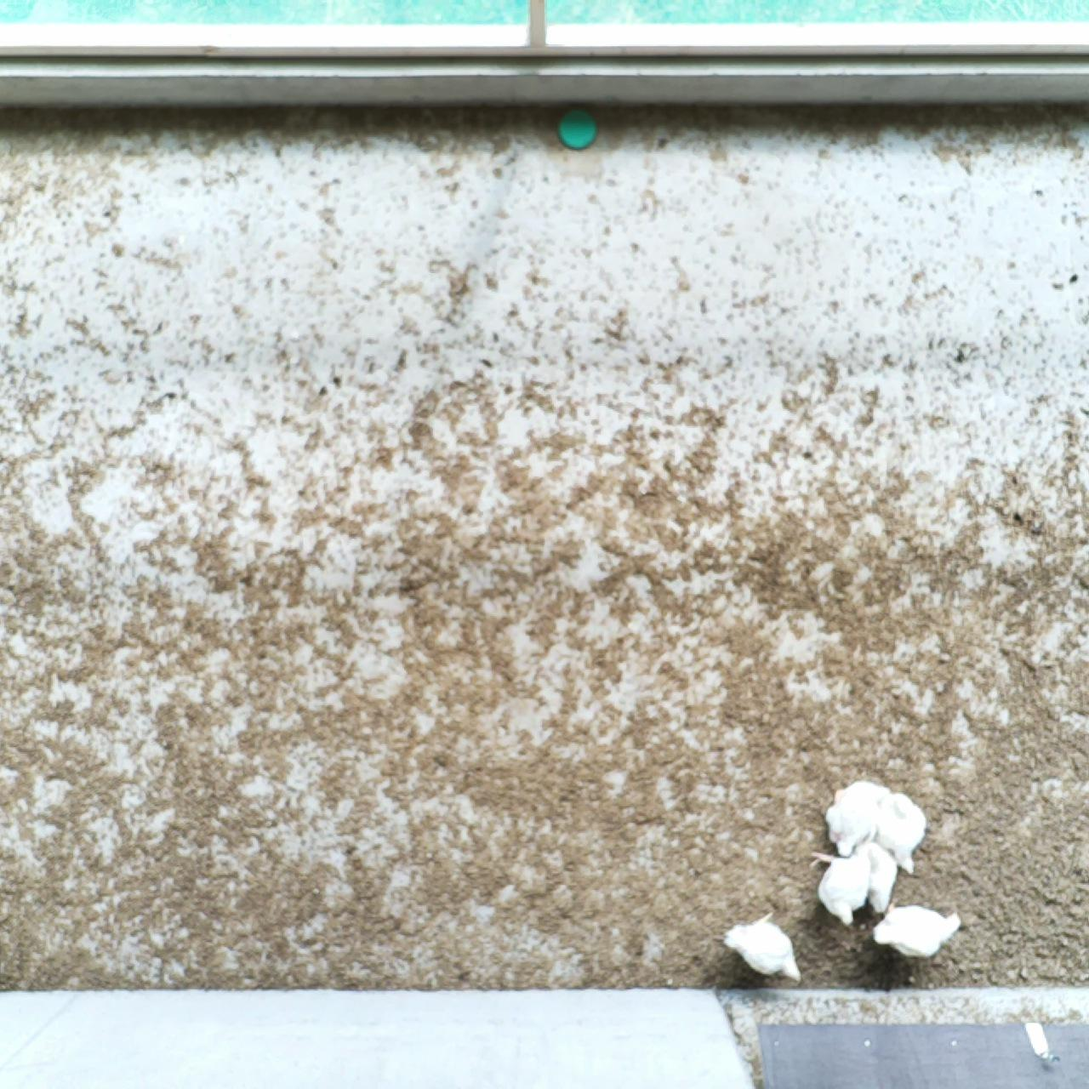chicken: (711, 909, 806, 985), (869, 895, 967, 961), (822, 778, 889, 854), (808, 845, 868, 928), (874, 787, 926, 876), (851, 838, 898, 911)
